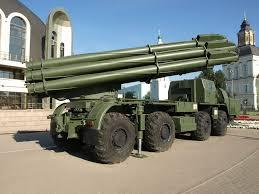MIL_SAM_TEL: (21, 28, 243, 165)
